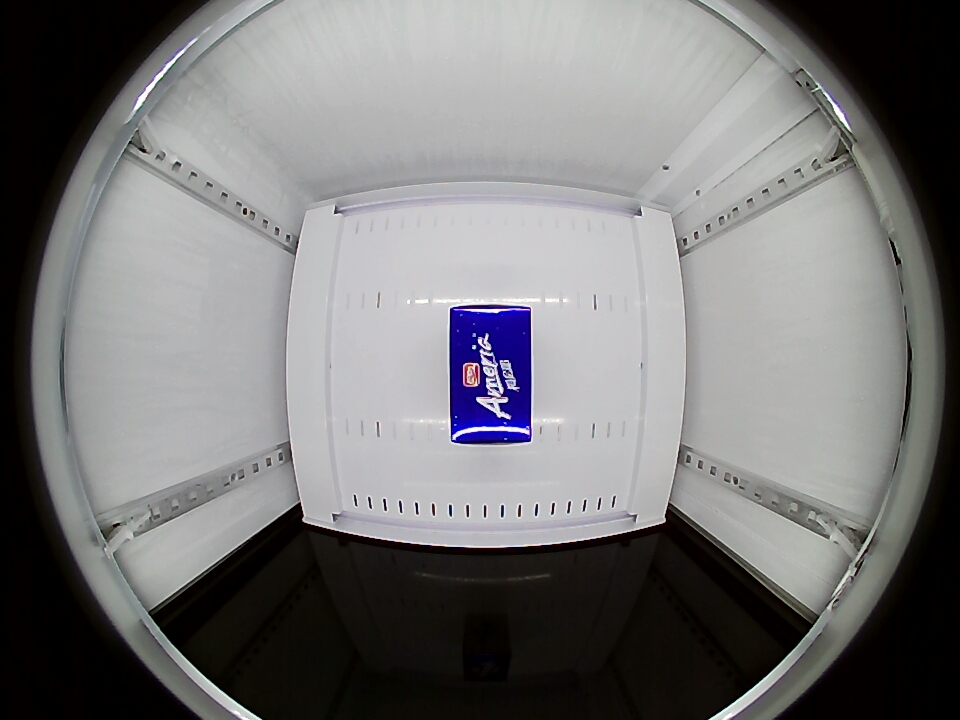meiniye: (449, 304, 533, 446)
